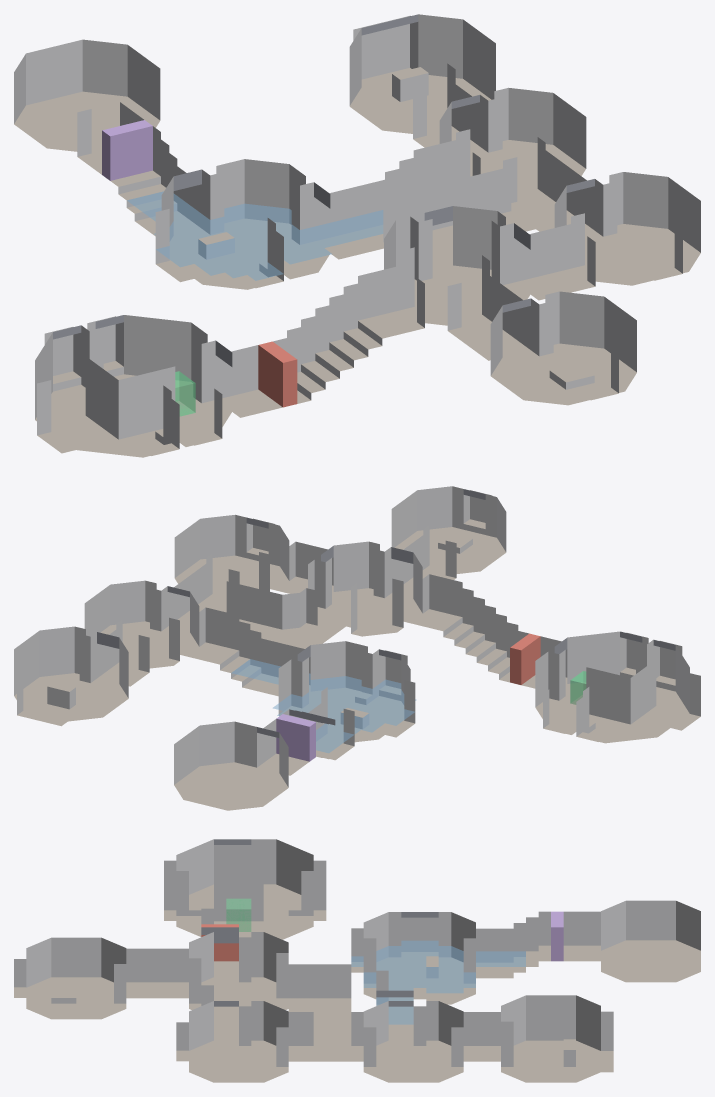
File: pod_research_04.glb
3 views of the same model, one above another, from view 1: azimuth 30°, elevation 25°; view 2: azimuth 150°, elevation 25°; view 3: azimuth 270°, elevation 25° (orthographic). The views are drawn at different scales.
Visible parts, largest first — view 1: room:7, room:5, corridor:1, room:2, room:3, room:6, water, room:0, room:4, room:1, corridor:4, entities (+18 smaller); view 2: room:7, room:2, room:6, room:5, room:3, corridor:1, room:0, room:1, water, room:4, corridor:4, corridor:7 (+21 smaller); view 3: room:7, room:6, room:2, room:3, room:5, water, room:0, corridor:6, room:4, room:1, corridor:7, corridor:2 (+22 smaller).
Part boxes in pixels (left/top/right/bottom): room:7: left=14, top=39, right=160, bottom=153; room:5: left=161, top=159, right=330, bottom=289; corridor:1: left=215, top=266, right=424, bottom=417; room:2: left=35, top=315, right=232, bottom=457; room:3: left=490, top=291, right=636, bottom=405; room:6: left=349, top=14, right=495, bottom=135; water: left=127, top=191, right=383, bottom=280; room:0: left=554, top=172, right=700, bottom=285; room:4: left=439, top=87, right=586, bottom=201; room:1: left=384, top=206, right=530, bottom=326; corridor:4: left=314, top=140, right=480, bottom=259; entities: left=102, top=120, right=297, bottom=416; room:7: left=174, top=721, right=288, bottom=810; room:2: left=535, top=631, right=689, bottom=743; room:6: left=14, top=626, right=128, bottom=721; room:5: left=278, top=641, right=410, bottom=743; room:3: left=391, top=486, right=506, bottom=575; corridor:1: left=410, top=574, right=567, bottom=688; room:0: left=174, top=514, right=289, bottom=603; room:1: left=308, top=541, right=422, bottom=636; water: left=231, top=659, right=416, bottom=753; room:4: left=84, top=580, right=199, bottom=669; corridor:4: left=187, top=607, right=310, bottom=696; corridor:7: left=226, top=581, right=339, bottom=648; room:7: left=601, top=900, right=700, bottom=982; room:6: left=501, top=995, right=613, bottom=1082; room:2: left=176, top=839, right=313, bottom=939; room:3: left=26, top=937, right=126, bottom=1019; room:5: left=363, top=912, right=475, bottom=1004; water: left=351, top=940, right=525, bottom=1024; room:0: left=189, top=1001, right=288, bottom=1082; corridor:6: left=476, top=911, right=600, bottom=978; room:4: left=363, top=1001, right=463, bottom=1082; room:1: left=189, top=932, right=288, bottom=1019; corridor:7: left=288, top=964, right=351, bottom=1045; corridor:2: left=126, top=948, right=188, bottom=998.
Bounding box in the file's own units: 45 × 7 × 55.
